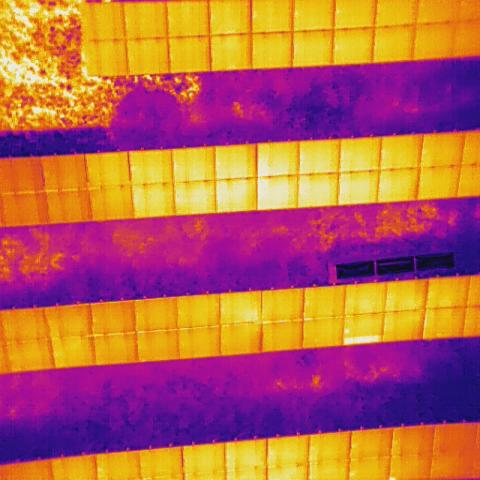fault: (342, 337, 380, 345), (343, 325, 350, 335)
